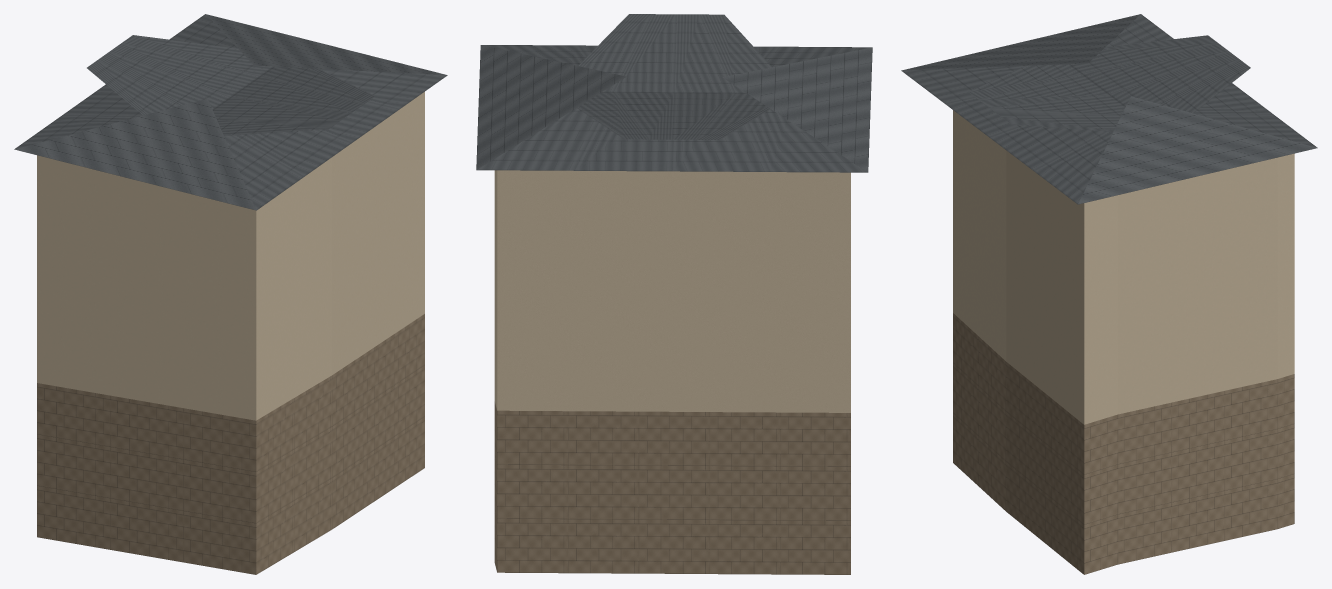
Rendered from bld_c41_-9_496.gltf.
The picture shows the model from 3 angles, left to right: view 1: azimuth 30°, elevation 25°; view 2: azimuth 150°, elevation 25°; view 3: azimuth 270°, elevation 25°; orthographic projection. The views are drawn at different scales.
Parts seen in each view (by area): view 1: bld_c41_-9_496; view 2: bld_c41_-9_496; view 3: bld_c41_-9_496.
Boxes of the visible parts, x1,y1,x2,y2 form: bld_c41_-9_496: (14, 14, 447, 574); bld_c41_-9_496: (476, 14, 872, 574); bld_c41_-9_496: (901, 14, 1317, 574).
Bounding box in the file's own units: 13.89 × 13.9 × 12.84.
3 materials, 3 textured.
